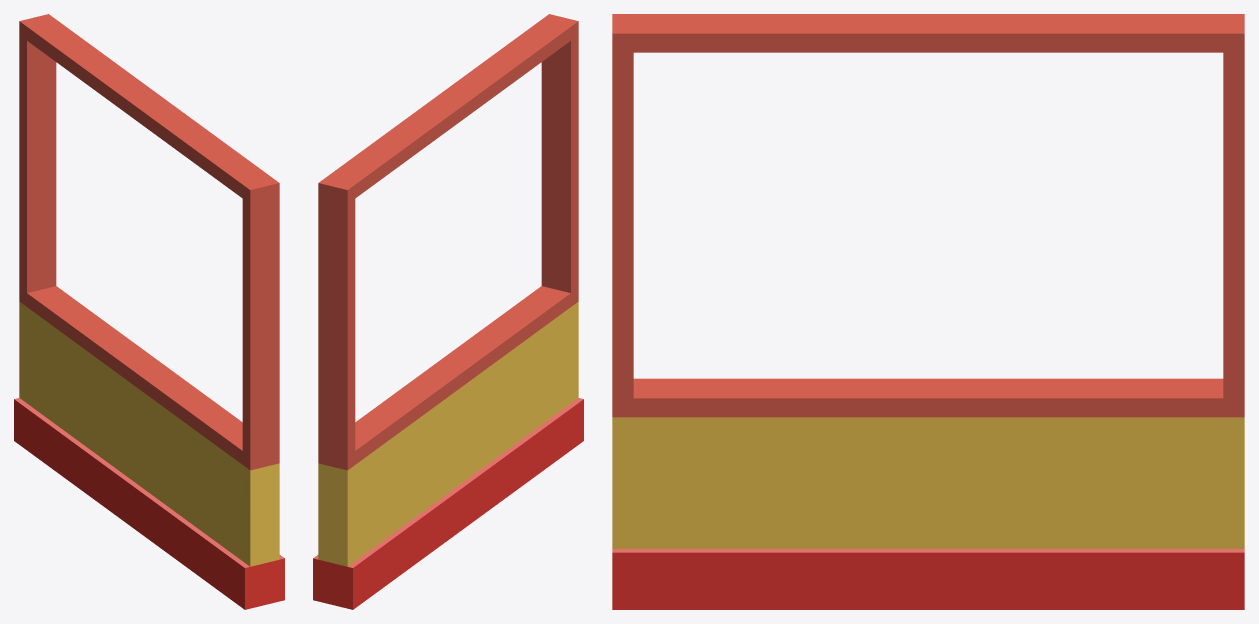
The model's file is Wall_Windown.fbx.
The picture shows the model from 3 angles, left to right: view 1: azimuth 30°, elevation 25°; view 2: azimuth 150°, elevation 25°; view 3: azimuth 270°, elevation 25°; orthographic projection. The views are drawn at different scales.
Parts seen in each view (by area): view 1: Wall_Windown; view 2: Wall_Windown; view 3: Wall_Windown.
Boxes of the visible parts, bbox=[...] form: Wall_Windown: bbox=[14, 14, 284, 609]; Wall_Windown: bbox=[313, 14, 583, 609]; Wall_Windown: bbox=[612, 14, 1244, 609].
Bounding box in the file's own units: 0.3 × 3 × 3.
